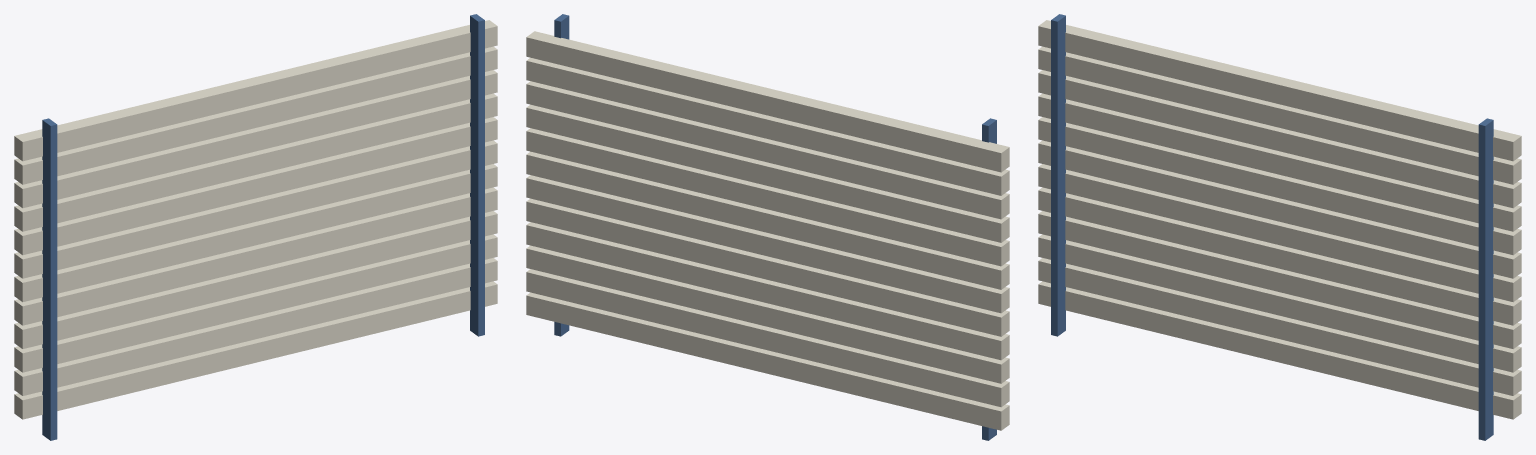
Rendered from blind.glb.
3 renders of one model, left to right at view 1: azimuth 30°, elevation 25°; view 2: azimuth 150°, elevation 25°; view 3: azimuth 330°, elevation 25°, orthographic.
Parts seen in each view (by area): view 1: _MeshInstance3D_711, _MeshInstance3D_709, _MeshInstance3D_708, _MeshInstance3D_701, _MeshInstance3D_710, _MeshInstance3D_700, _MeshInstance3D_702, _MeshInstance3D_703, _MeshInstance3D_707, _MeshInstance3D_706, _MeshInstance3D_705, _MeshInstance3D_704 (+2 smaller); view 2: _MeshInstance3D_711, _MeshInstance3D_700, _MeshInstance3D_703, _MeshInstance3D_704, _MeshInstance3D_705, _MeshInstance3D_701, _MeshInstance3D_702, _MeshInstance3D_708, _MeshInstance3D_707, _MeshInstance3D_710, _MeshInstance3D_706, _MeshInstance3D_709 (+2 smaller); view 3: _MeshInstance3D_711, _MeshInstance3D_709, _MeshInstance3D_708, _MeshInstance3D_701, _MeshInstance3D_710, _MeshInstance3D_700, _MeshInstance3D_702, _MeshInstance3D_703, _MeshInstance3D_707, _MeshInstance3D_706, _MeshInstance3D_705, _MeshInstance3D_704 (+2 smaller).
Boxes of the visible parts, x1,y1,x2,y2 form: _MeshInstance3D_711: (14,20,497,161); _MeshInstance3D_709: (14,70,497,208); _MeshInstance3D_708: (14,93,497,231); _MeshInstance3D_701: (14,258,497,395); _MeshInstance3D_710: (14,46,497,184); _MeshInstance3D_700: (14,281,497,419); _MeshInstance3D_702: (14,234,497,372); _MeshInstance3D_703: (14,211,497,348); _MeshInstance3D_707: (14,117,497,255); _MeshInstance3D_706: (14,140,497,278); _MeshInstance3D_705: (14,164,497,302); _MeshInstance3D_704: (14,187,497,325); _MeshInstance3D_711: (526,31,1009,172); _MeshInstance3D_700: (526,292,1009,430); _MeshInstance3D_703: (526,222,1009,360); _MeshInstance3D_704: (526,198,1009,336); _MeshInstance3D_705: (526,175,1009,313); _MeshInstance3D_701: (526,269,1009,407); _MeshInstance3D_702: (526,245,1009,383); _MeshInstance3D_708: (526,104,1009,242); _MeshInstance3D_707: (526,128,1009,266); _MeshInstance3D_710: (526,57,1009,195); _MeshInstance3D_706: (526,151,1009,289); _MeshInstance3D_709: (526,81,1009,219); _MeshInstance3D_711: (1038,20,1521,161); _MeshInstance3D_709: (1038,70,1521,208); _MeshInstance3D_708: (1038,93,1521,231); _MeshInstance3D_701: (1038,258,1521,395); _MeshInstance3D_710: (1038,46,1521,184); _MeshInstance3D_700: (1038,281,1521,419); _MeshInstance3D_702: (1038,234,1521,372); _MeshInstance3D_703: (1038,211,1521,348); _MeshInstance3D_707: (1038,117,1521,255); _MeshInstance3D_706: (1038,140,1521,278); _MeshInstance3D_705: (1038,164,1521,302); _MeshInstance3D_704: (1038,187,1521,325).
Bounding box in the file's own units: 1.8 × 1.14 × 0.105.
